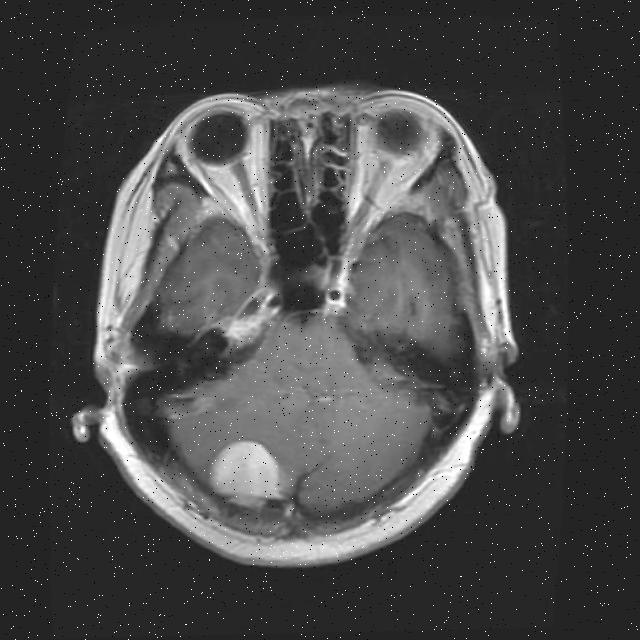Meningioma: (207, 439, 282, 506)
